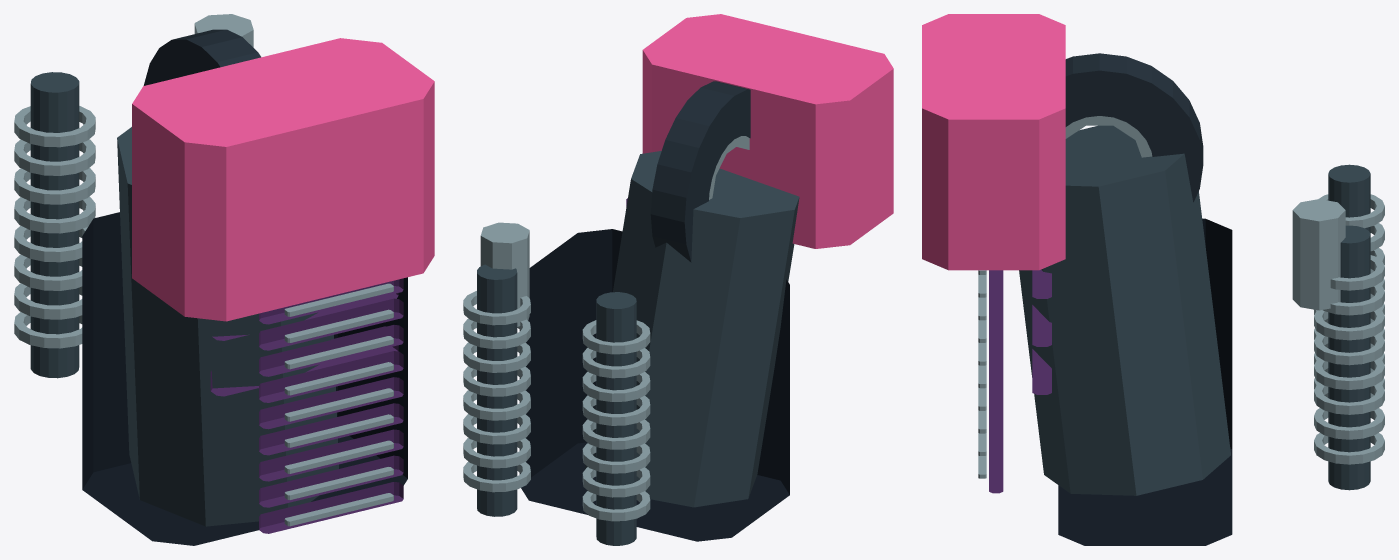
The model's file is enemy_striker_4k_shin_l.obj.
3 views of the same model, side by side, from view 1: azimuth 30°, elevation 25°; view 2: azimuth 150°, elevation 25°; view 3: azimuth 270°, elevation 25° (orthographic). The views are drawn at different scales.
Bounding box in the file's own units: 0.3988 × 0.597 × 0.612.
